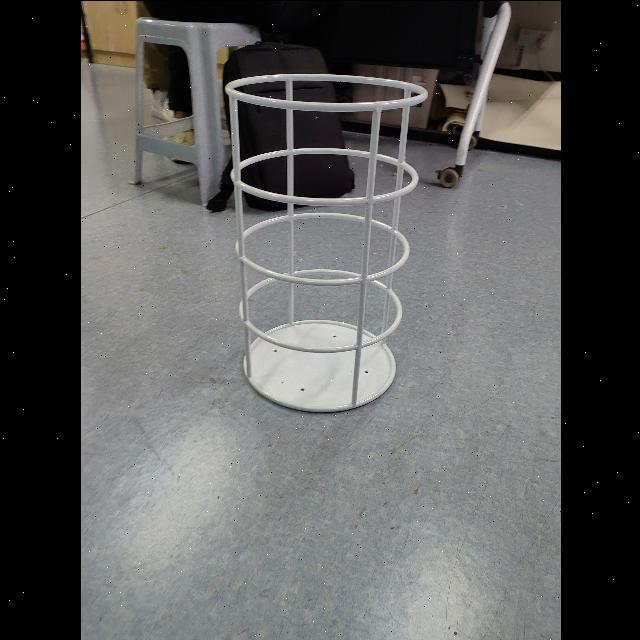S: (218, 69, 430, 414)
